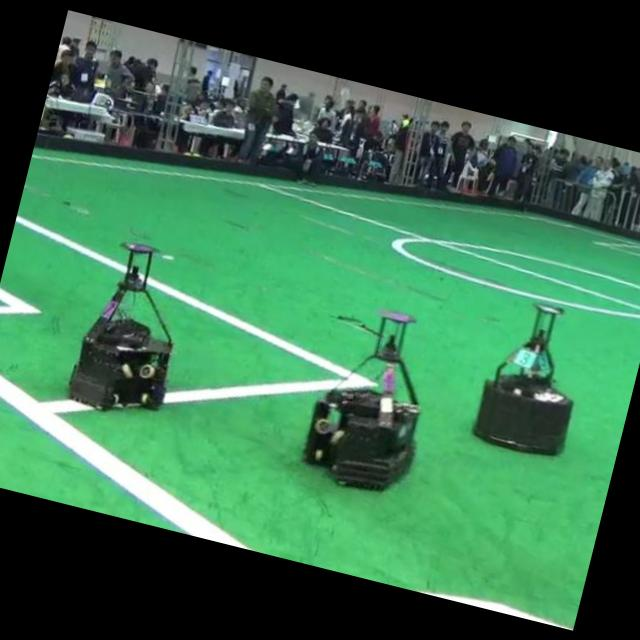robot: (304, 311, 420, 490), (69, 243, 171, 408), (474, 304, 571, 454)
